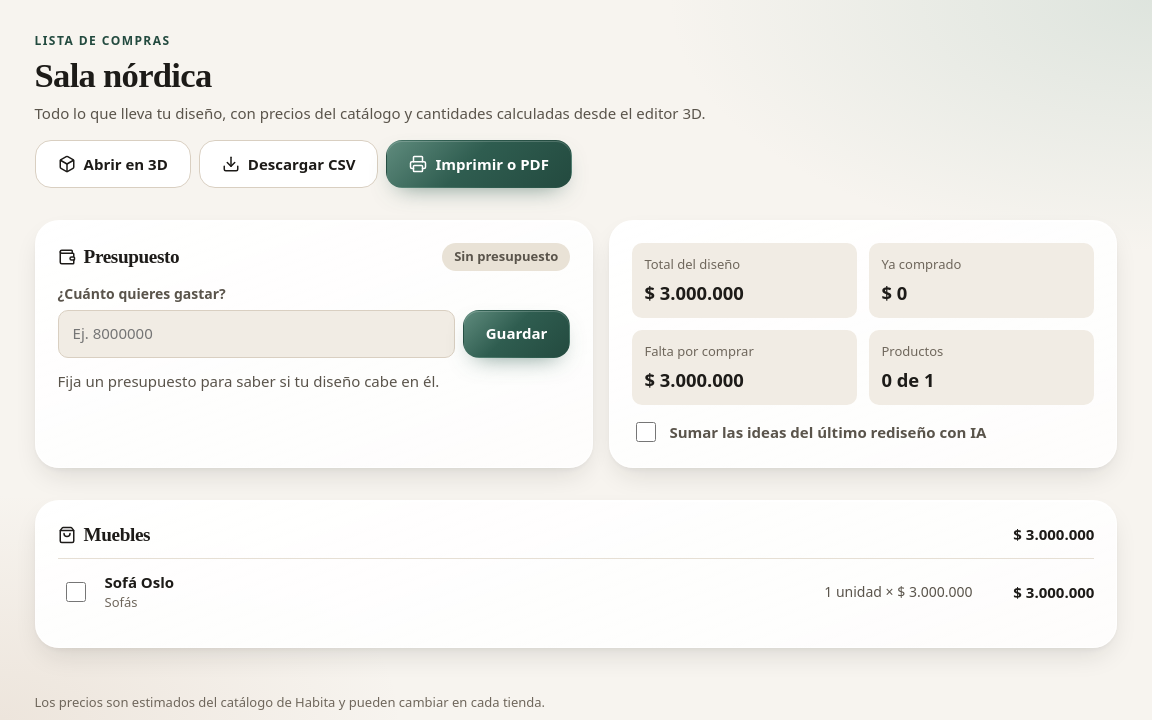
Test: ShoppingList page › saves the budget and shows when the design goes over it
The image size is (1152, 720).
Type "2000000" into the field labelled "¿Cuánto quieres gastar?" at (256, 334), box [58,310,455,358]
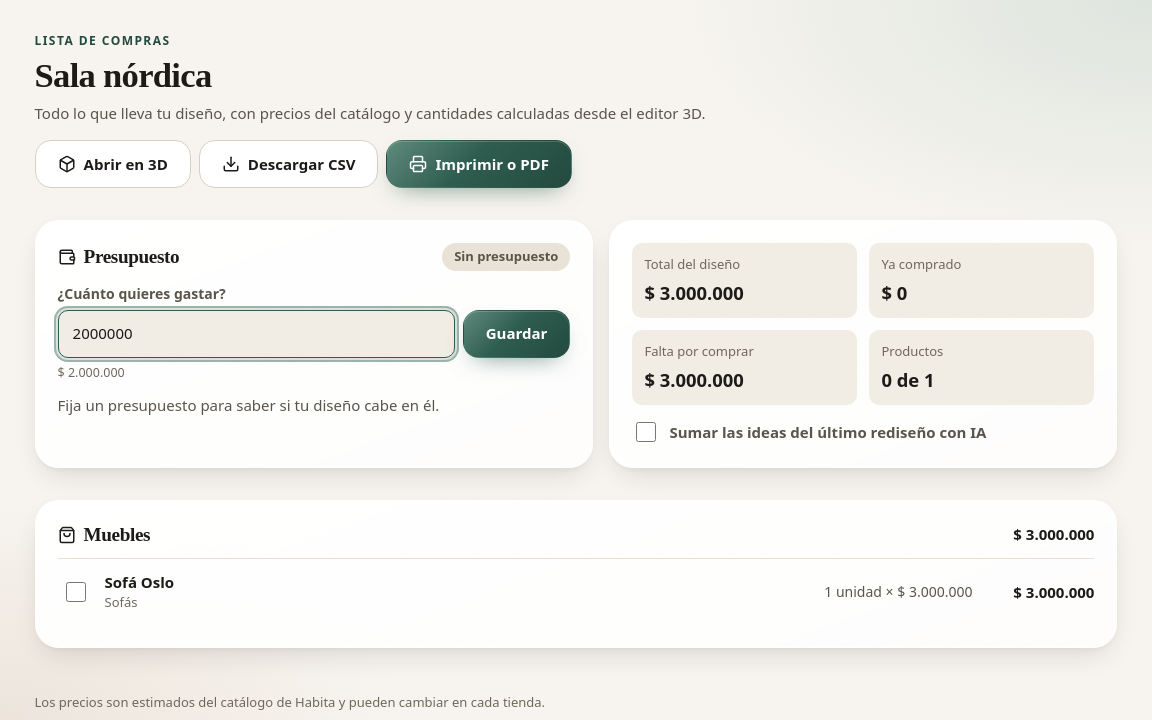
Click the button "Guardar" at (517, 334), box [463,310,570,358]
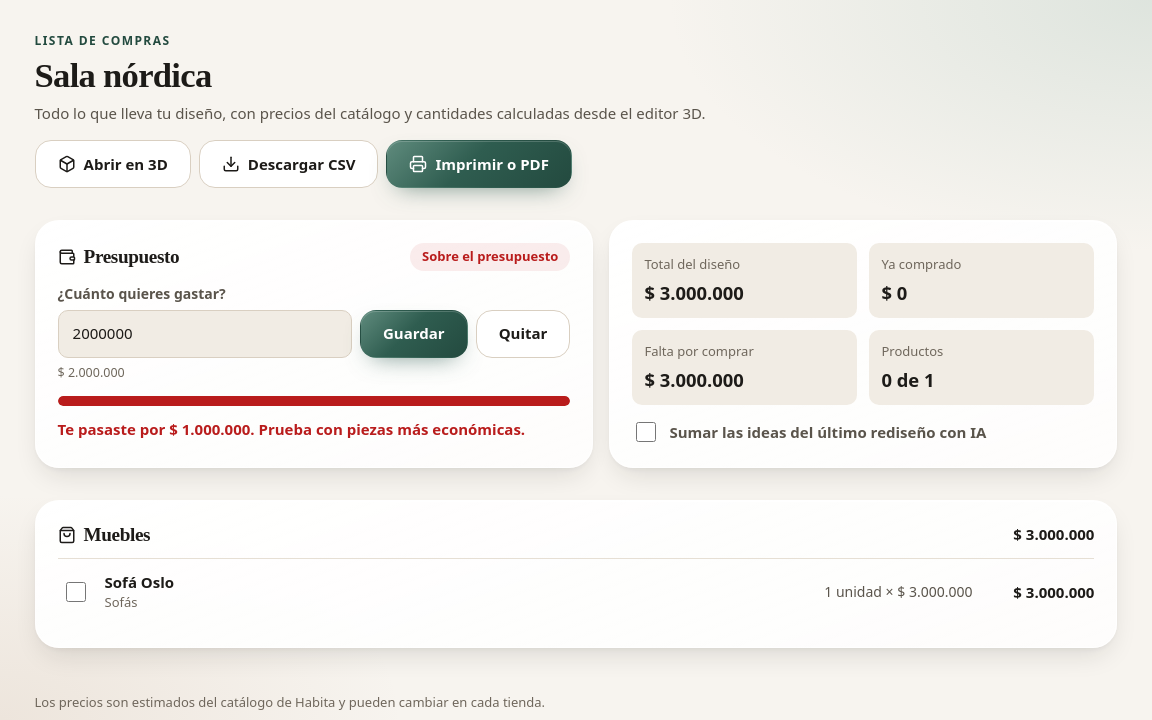
Result: the text "Te pasaste" is shown at [58,420,525,440]
Result: the text "Sobre el presupuesto" is shown at [410,243,570,271]
